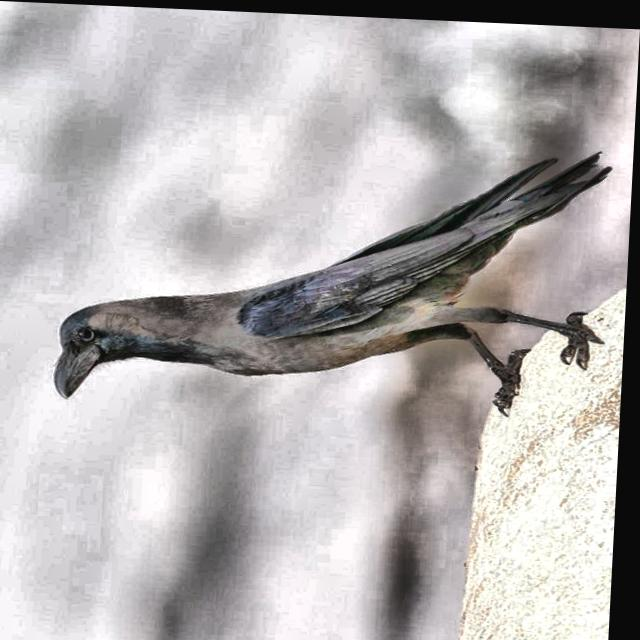crow: (39, 118, 635, 426)
